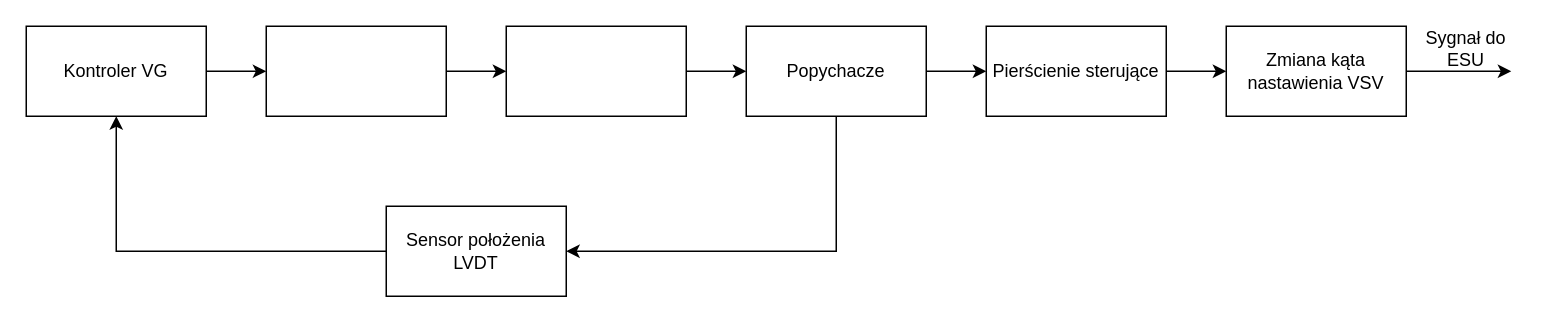
The diagram is 1550 pixels wide and 323 high, and some of its shapes have lost their labels. Here are the shapes that lost their labels. From the top down, the box of each, then its label:
(265, 25, 446, 116): Serwozawór czterodrożny
(505, 25, 686, 116): Siłownik hydrauliczny
